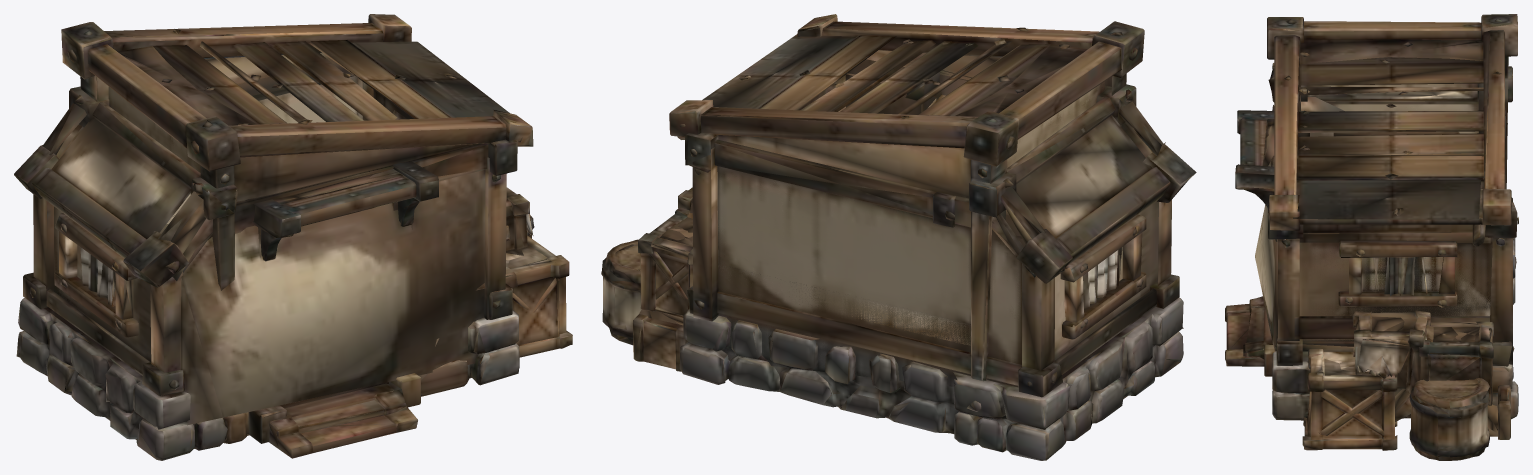
Rendered from shelter_t2_storage.glb.
3 renders of one model, left to right at view 1: azimuth 30°, elevation 25°; view 2: azimuth 150°, elevation 25°; view 3: azimuth 270°, elevation 25°, orthographic. The views are drawn at different scales.
Bounding box in the file's own units: 0.3257 × 0.206 × 0.1983.
Materials: 1 (1 with a texture image).
